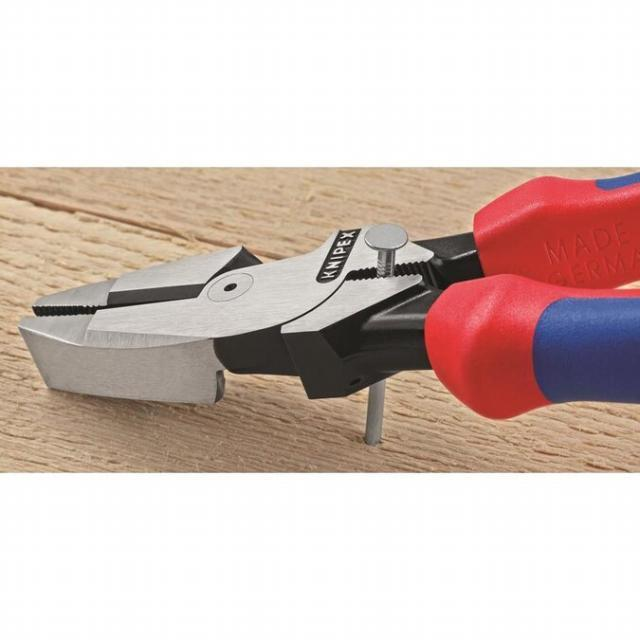pliers: (13, 168, 640, 434)
